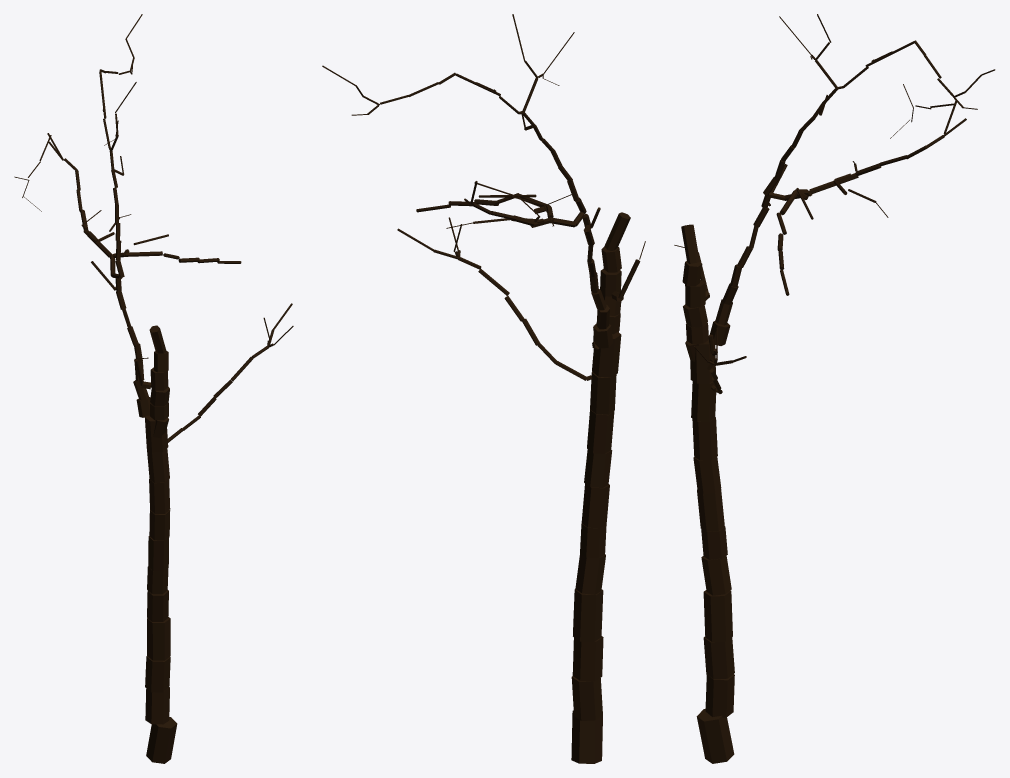
The model's file is tree_532_no_leaf.obj.
The picture shows the model from 3 angles, left to right: view 1: azimuth 30°, elevation 25°; view 2: azimuth 150°, elevation 25°; view 3: azimuth 270°, elevation 25°; orthographic projection. The views are drawn at different scales.
Visible parts, largest first — view 1: TrunkAndBranches; view 2: TrunkAndBranches; view 3: TrunkAndBranches.
Boxes of the visible parts, bbox=[...] form: TrunkAndBranches: bbox=[14, 14, 293, 763]; TrunkAndBranches: bbox=[322, 14, 645, 763]; TrunkAndBranches: bbox=[674, 14, 995, 763].
Size of the model in its own units: 1.63 by 4.73 by 1.82.
